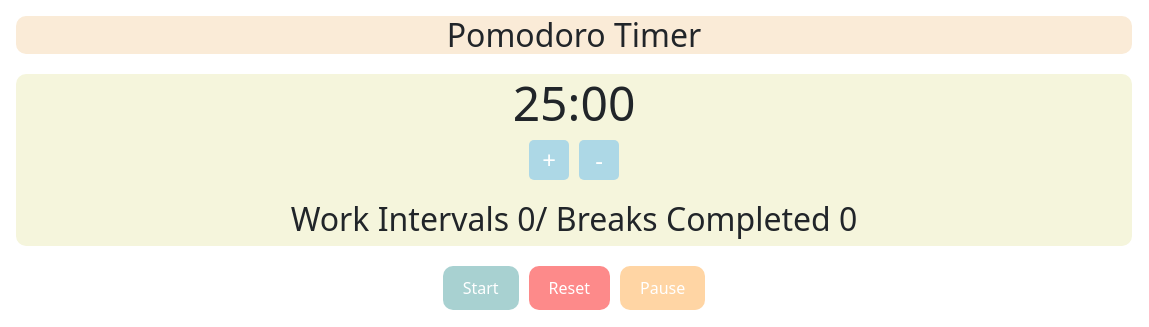
Scenario: Pomodoro Timer › decrease button decreases the minutes
Step 1. Click the button "-" → (599, 160), box [579, 140, 619, 180]
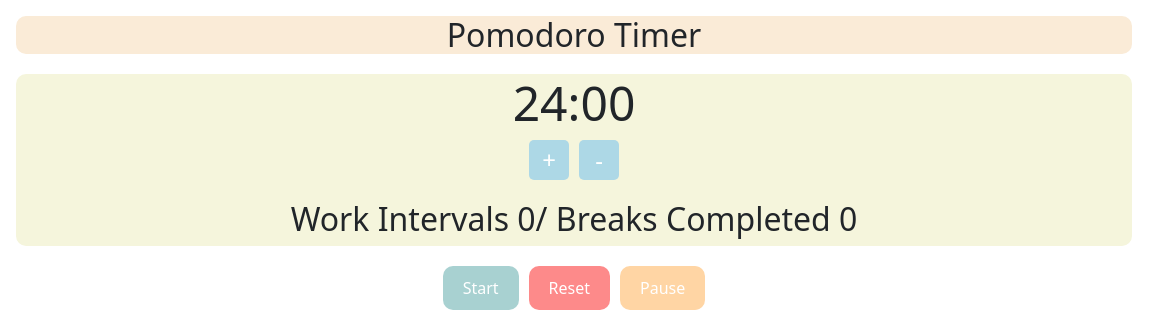
Expected: the heading "24:00" is shown, [513, 70, 635, 135]
